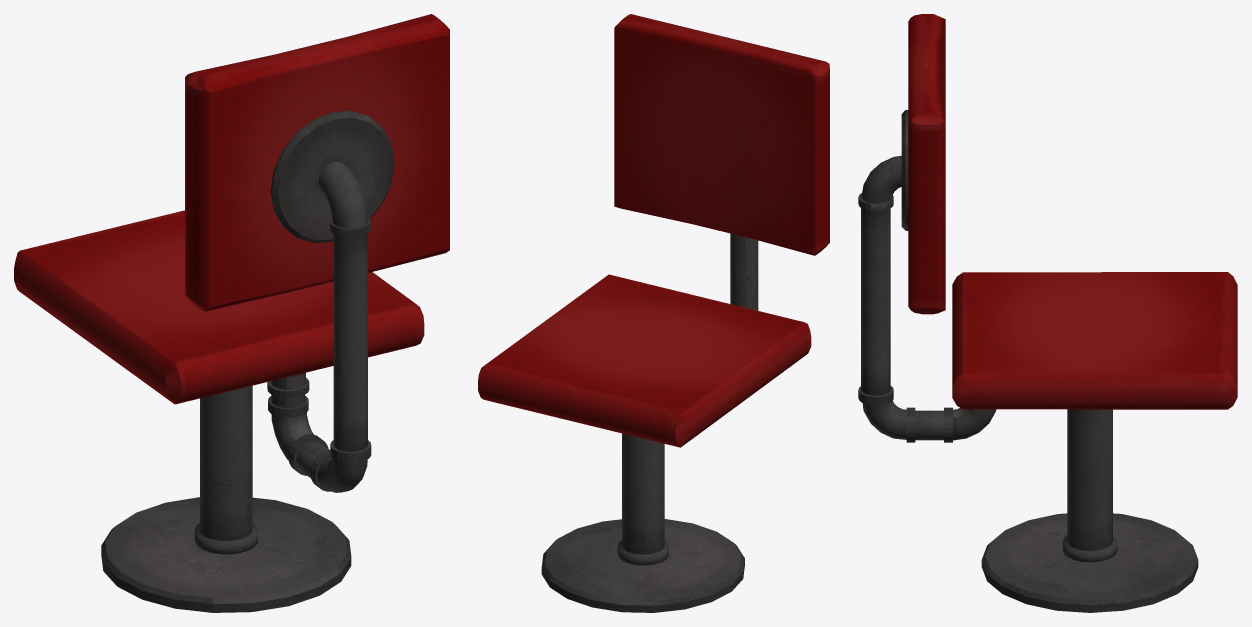
Rendered from Chair_Pipe.fbx.
3 views of the same model, side by side, from view 1: azimuth 30°, elevation 25°; view 2: azimuth 150°, elevation 25°; view 3: azimuth 270°, elevation 25° (orthographic). The views are drawn at different scales.
Parts seen in each view (by area): view 1: polySurface93; view 2: polySurface93; view 3: polySurface93.
Part boxes in pixels (bbox=[...]): polySurface93: bbox=[14, 14, 449, 612]; polySurface93: bbox=[478, 14, 829, 612]; polySurface93: bbox=[858, 14, 1237, 612].
Size of the model in its own units: 0.3864 by 0.8359 by 0.5718.
